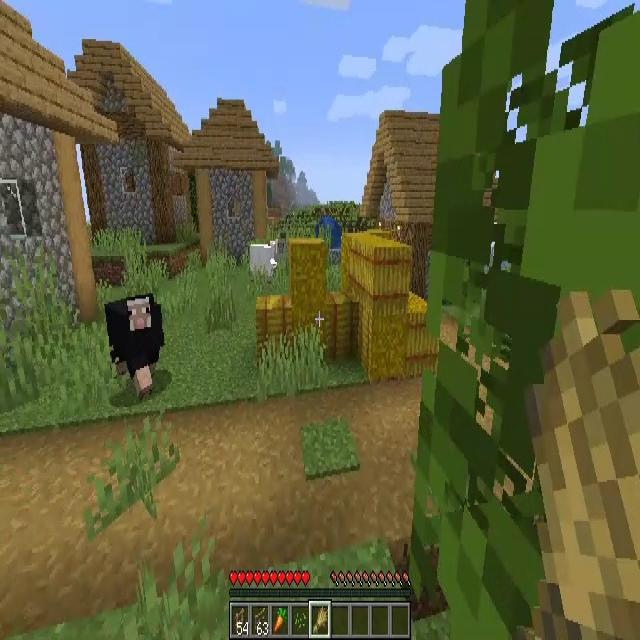sheep: (105, 294, 163, 394), (249, 240, 286, 286)
